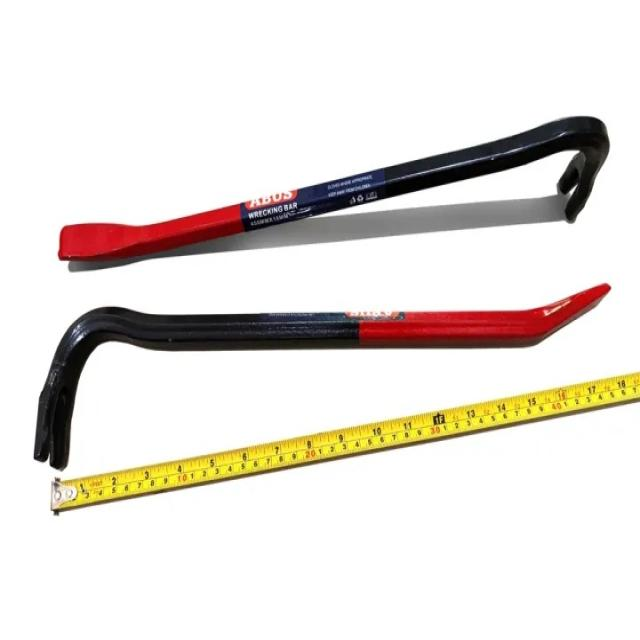Linggis: (39, 275, 613, 469)
